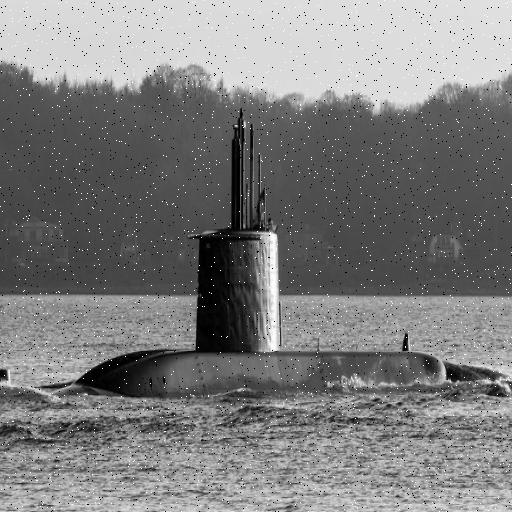submarine: (1, 91, 512, 409)
